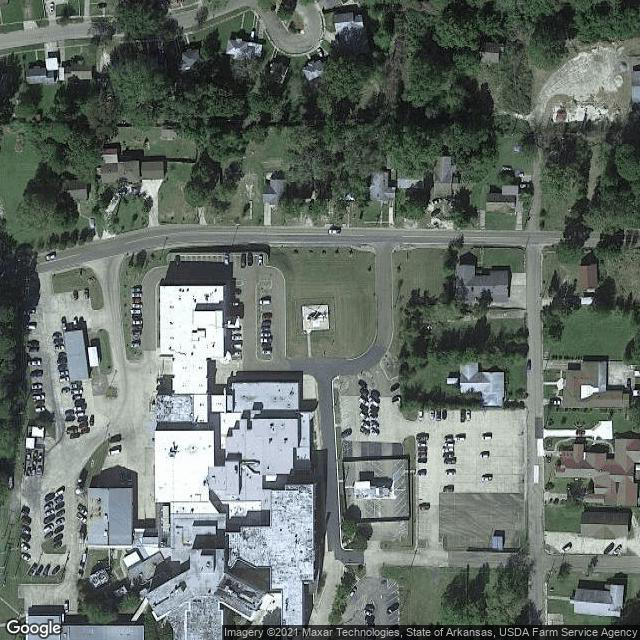Helipad: (300, 303, 332, 332)
